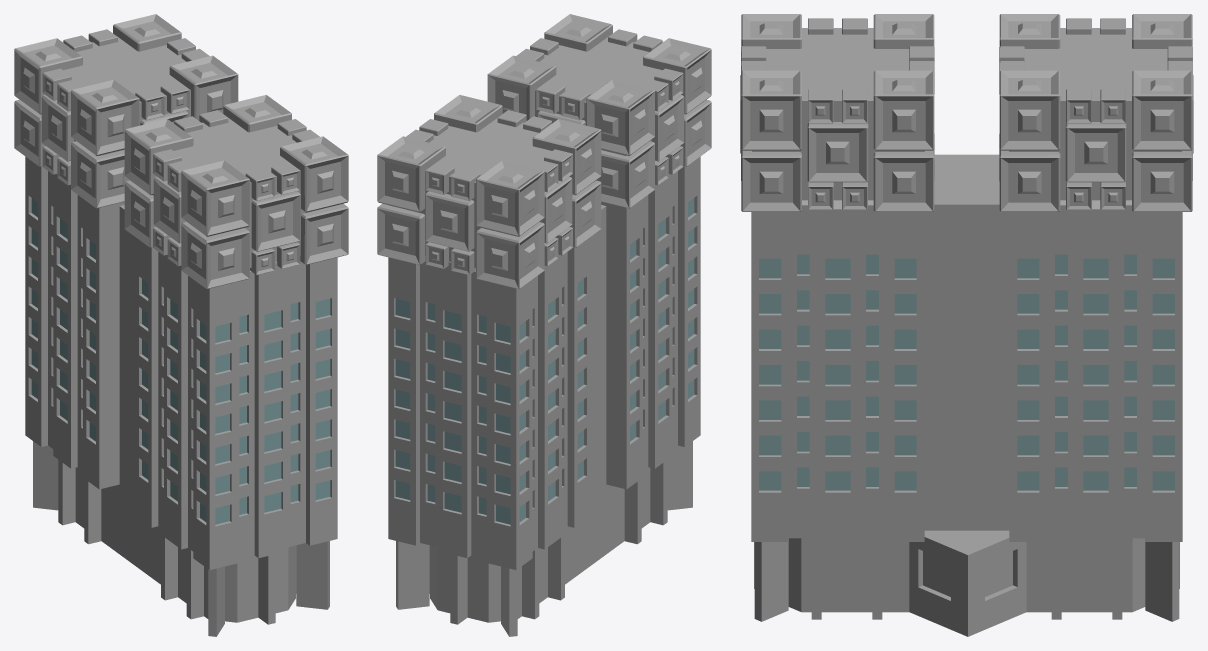
Rendered from RAN.fbx.
3 renders of one model, left to right at view 1: azimuth 30°, elevation 25°; view 2: azimuth 150°, elevation 25°; view 3: azimuth 270°, elevation 25°, orthographic. The views are drawn at different scales.
Parts seen in each view (by area): view 1: RAN; view 2: RAN; view 3: RAN.
Boxes of the visible parts, bbox=[...] form: RAN: bbox=[14, 14, 348, 636]; RAN: bbox=[377, 14, 711, 636]; RAN: bbox=[740, 14, 1193, 636].
Size of the model in its own units: 35.83 by 98.35 by 75.78.
